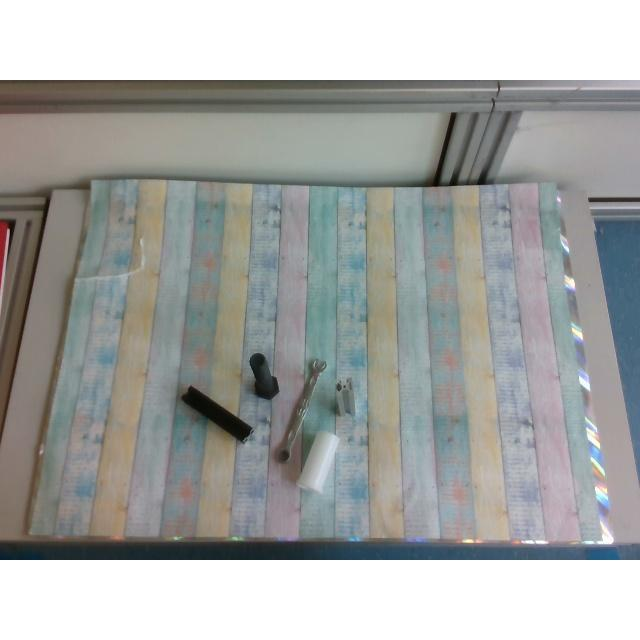F20_20_B: (180, 386, 252, 442)
F20_20_G: (335, 378, 355, 416)
M20_100: (250, 354, 278, 398)
Spacer: (297, 431, 339, 491)
Wrench: (274, 359, 326, 461)
